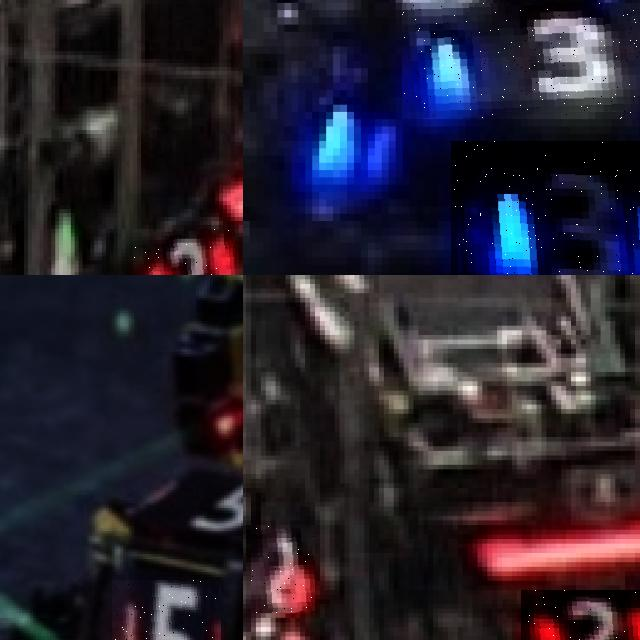B3: (402, 2, 640, 119), (451, 140, 640, 275)
R2: (521, 590, 640, 640), (251, 525, 315, 613), (133, 229, 234, 275)
R5: (134, 467, 243, 549), (111, 579, 221, 640)
